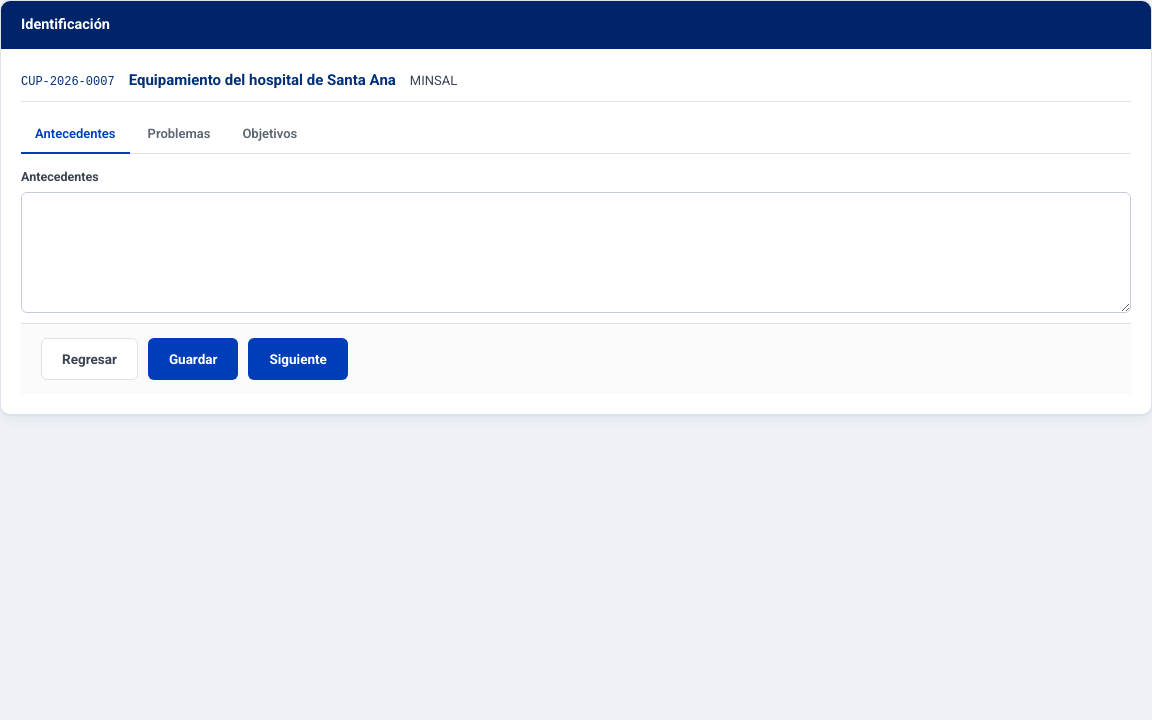
Test: IdentificacionPage · CU-PRE-04 › pestañas › el árbol de objetivos va con los objetivos
This screenshot has width=1152, height=720.
Expected: the text "MINSAL" is shown, [410,71,457,90]
Click the tab "Objetivos". click: (270, 135)
box: [228,116,311,154]
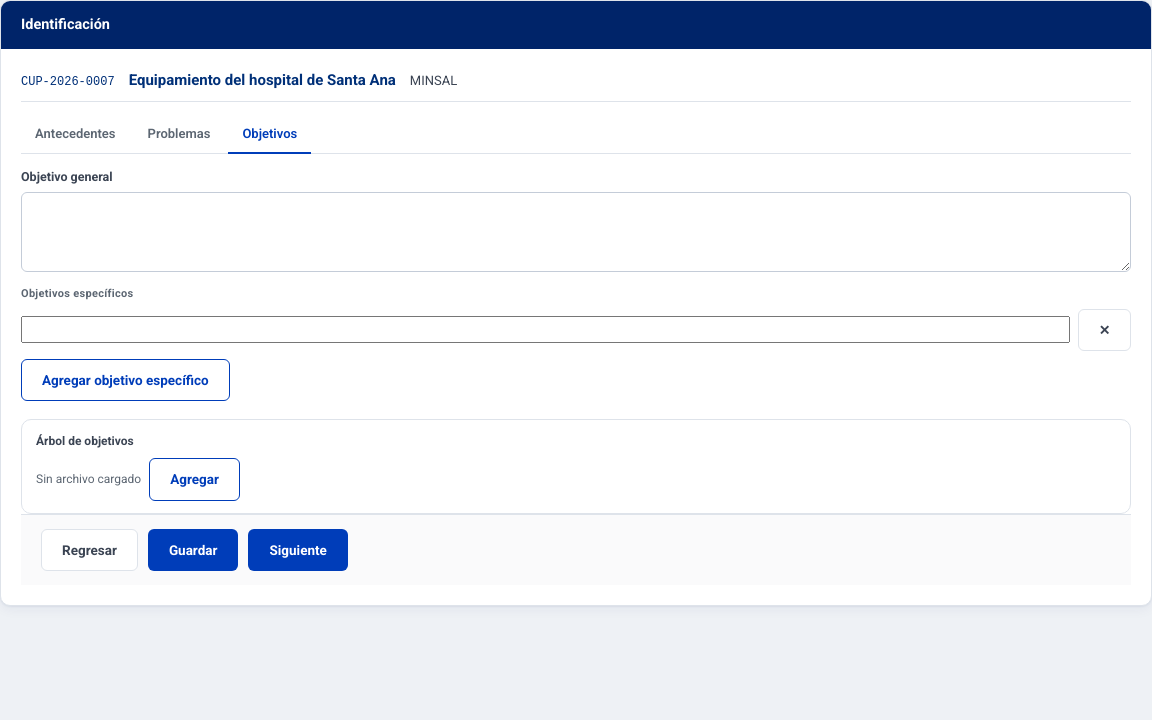
Expected: the text box labelled "Objetivo general" is shown, [21,192,1131,272]
Expected: the field named "Objetivo específico 1" is shown, [21,316,1070,343]
